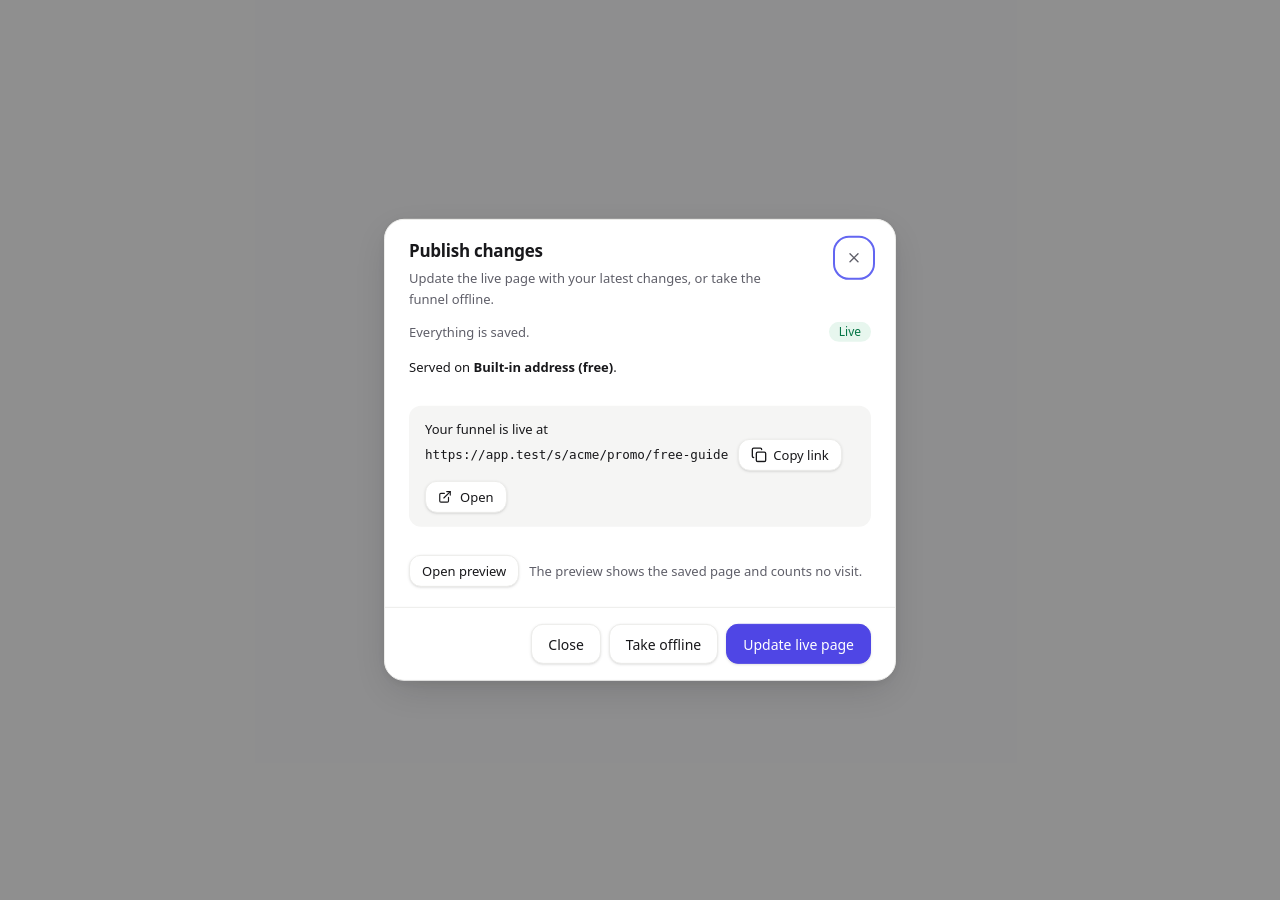
Test: PublishDialog › live on the built-in address: shows where it is served, Copy and Open, updates by saving, and takes it offline
Check: the text "Built-in address (free)" is shown, box left=473, top=358, right=613, bottom=376
Check: the text "Your funnel is live at" is shown, box left=425, top=420, right=548, bottom=438
Click the button "Update live page" at [799, 644], box left=726, top=624, right=871, bottom=664
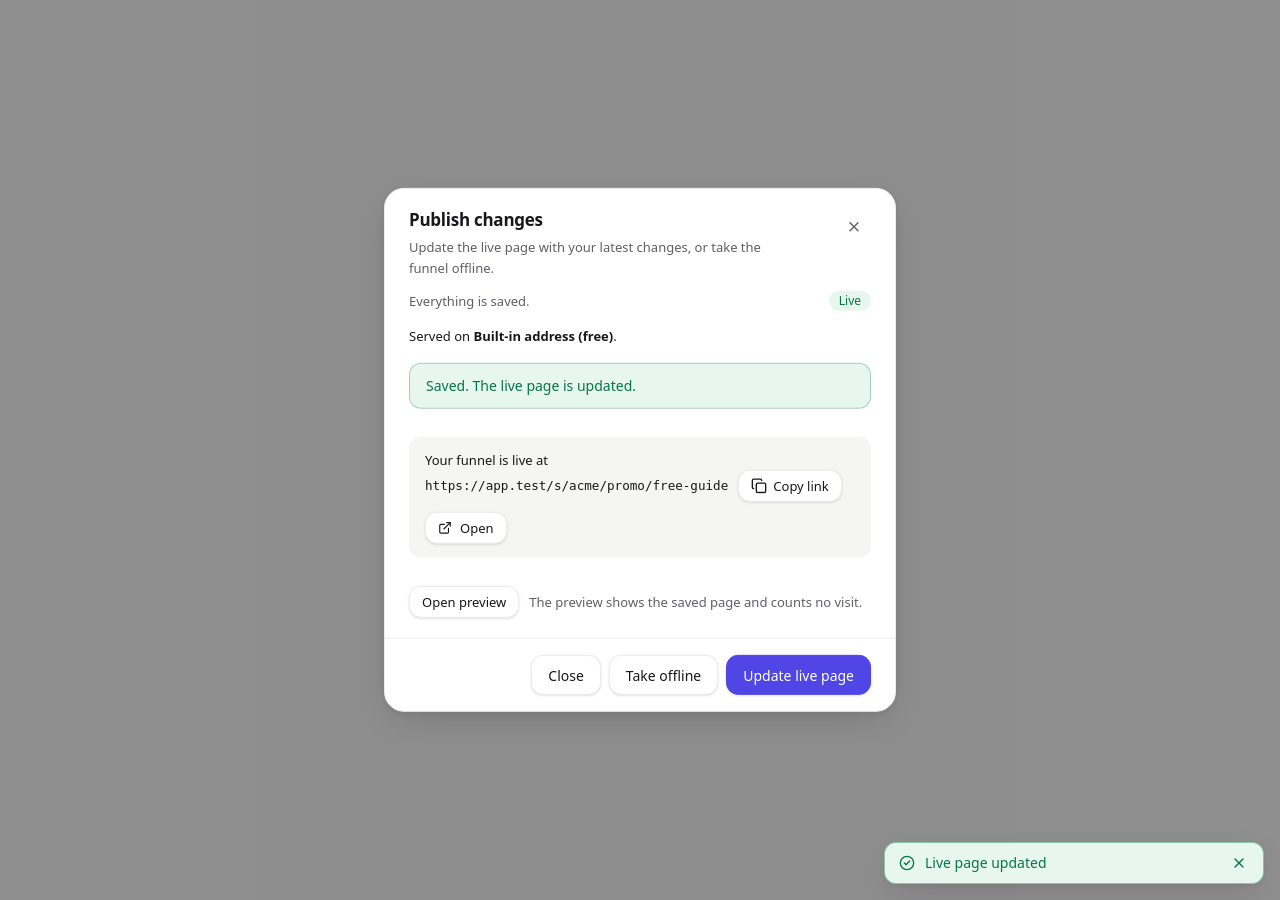
Check: the text "Saved. The live page is updated." is shown, box left=409, top=363, right=871, bottom=409
Click the button "Take offline" at [664, 675], box left=609, top=655, right=718, bottom=695
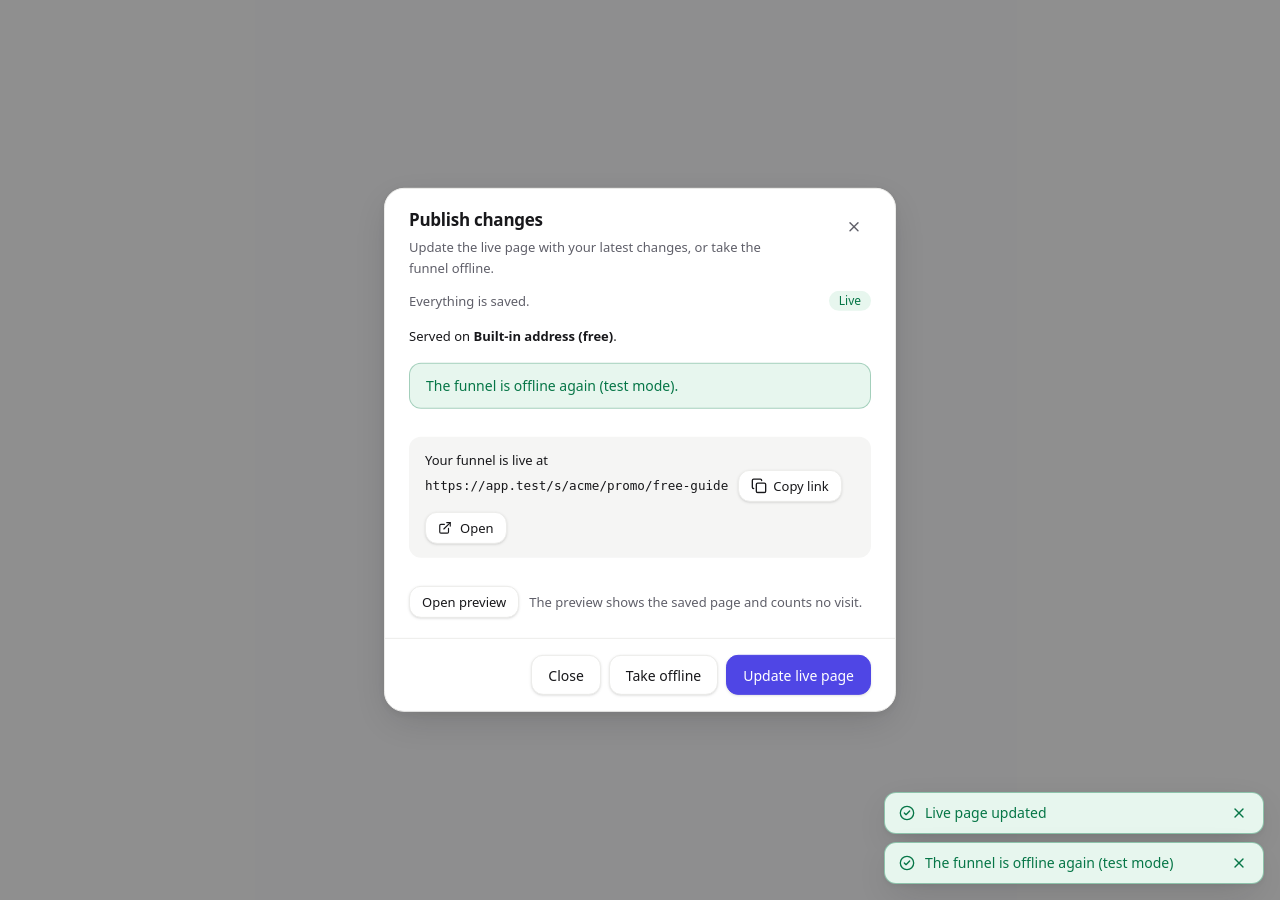
Check: the text "The funnel is offline again (test mode)." is shown, box left=409, top=363, right=871, bottom=409
